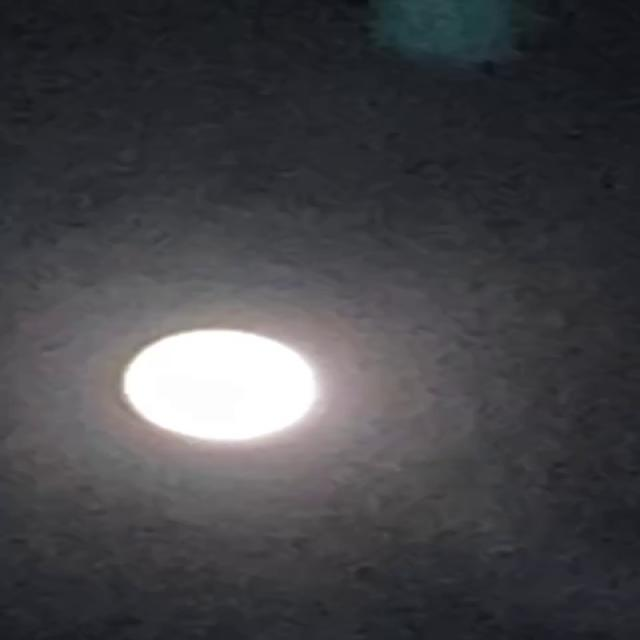moon: (113, 322, 336, 466)
